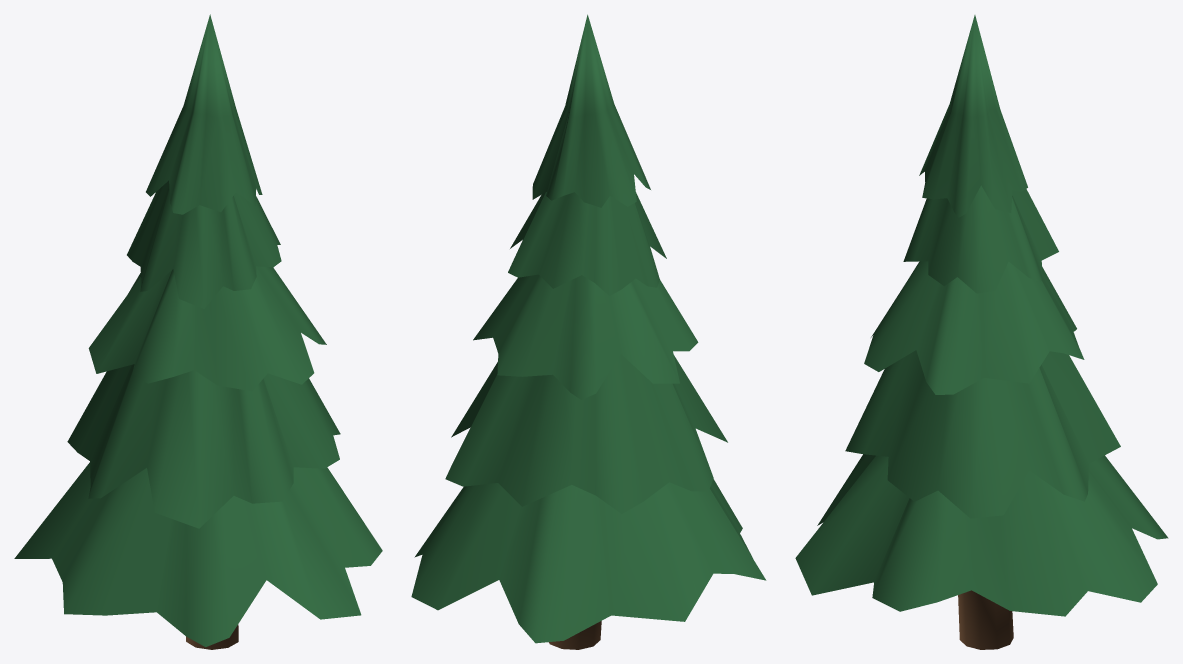
The model's file is conifer-1.glb.
3 renders of one model, left to right at view 1: azimuth 30°, elevation 25°; view 2: azimuth 150°, elevation 25°; view 3: azimuth 270°, elevation 25°, orthographic.
Visible parts, largest first — view 1: conifer-1; view 2: conifer-1; view 3: conifer-1.
Part boxes in pixels (left/top/right/bottom): conifer-1: left=14, top=14, right=382, bottom=649; conifer-1: left=411, top=14, right=766, bottom=649; conifer-1: left=795, top=15, right=1168, bottom=649.
Bounding box in the file's own units: 0.6182 × 1.24 × 0.6768.
